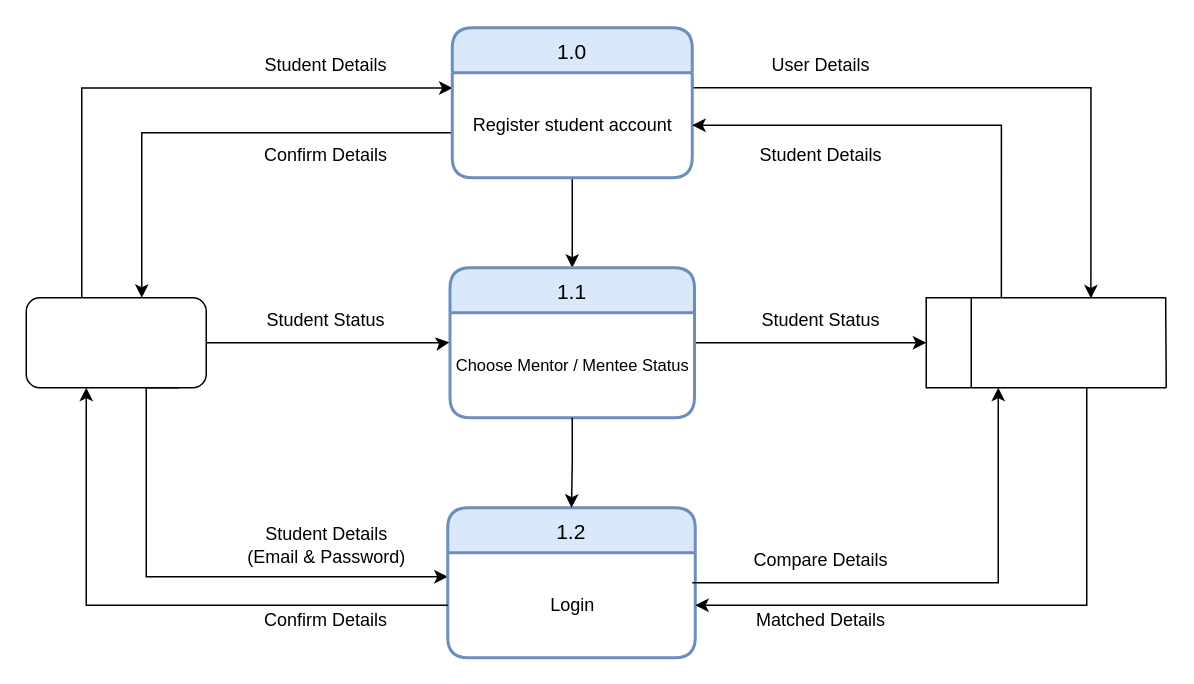
Image size: 1194x684. Some labels were removed from this diagram. Each missing label, with the centre of its shape:
D1 Users Database: the point at 1045,342
Student: the point at 115,342
